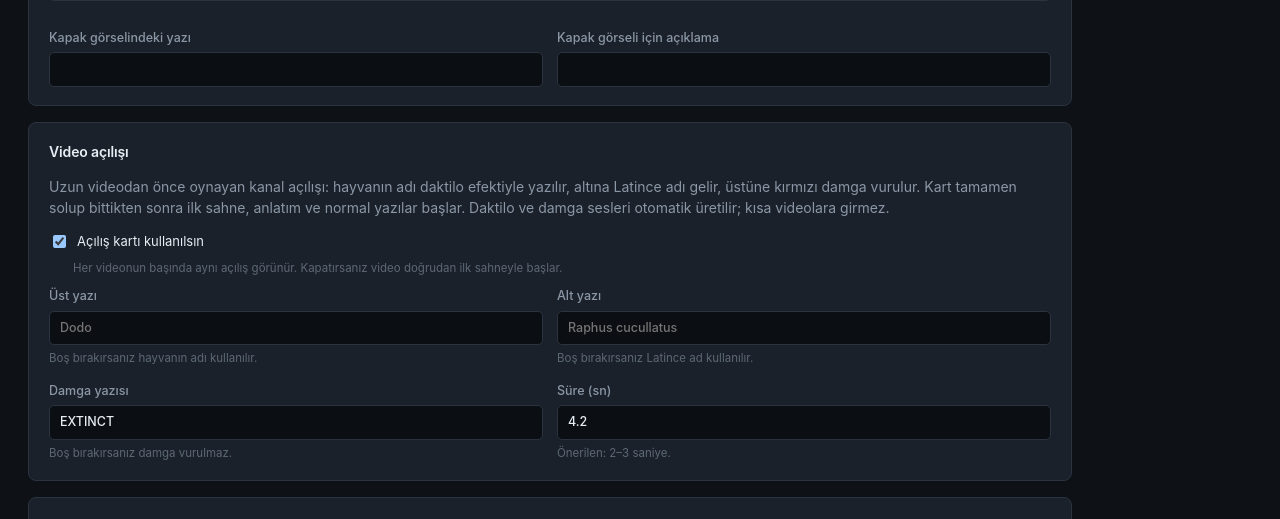
the branded opening › can be turned off, which hides the fields
(page scrolled)
Click the checkbox labelled "Açılış kartı kullanılsın": (60, 242) [53,235,66,248]
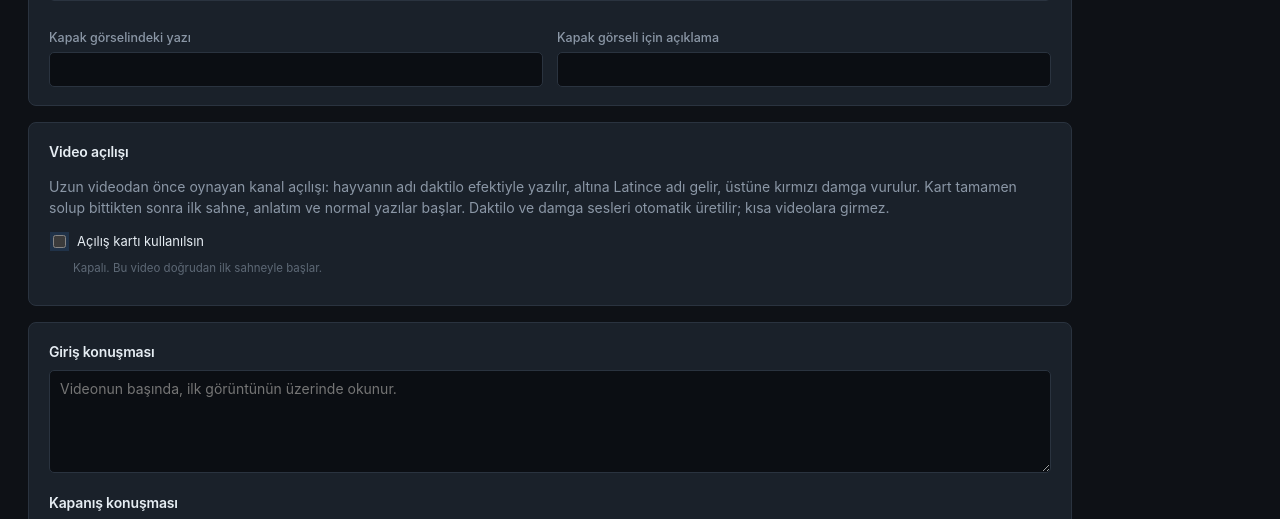
Expected: the label labelled "Damga yazısı" is gone
